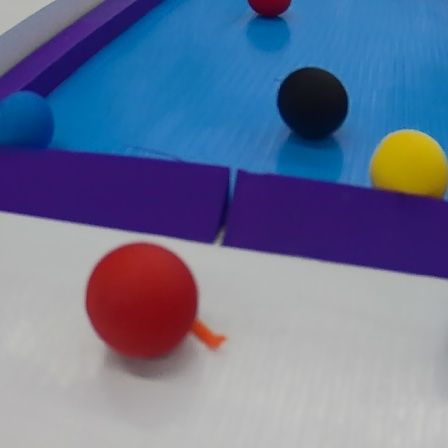black: (266, 56, 353, 144)
blue: (0, 91, 54, 159)
blue_aim: (1, 6, 448, 282)
red: (81, 237, 204, 358)
yellow: (373, 129, 448, 206)
